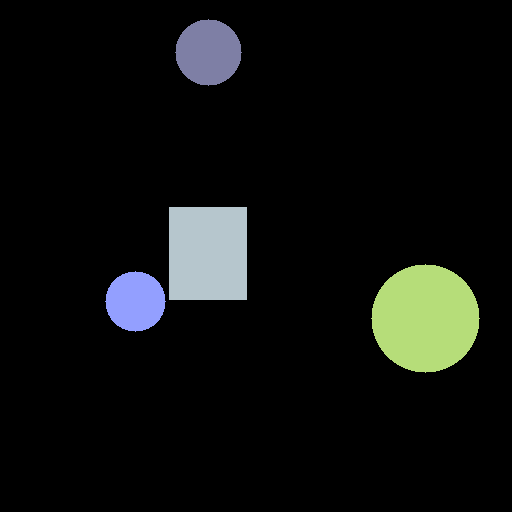circle: (371, 264, 479, 372), (175, 19, 241, 85), (105, 271, 165, 331)
rectangle: (169, 207, 246, 299)
